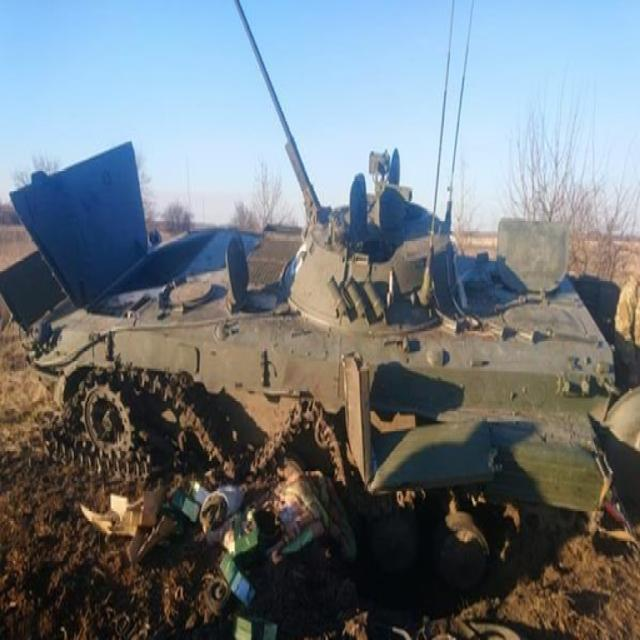APC-IFV: (1, 4, 618, 558)
